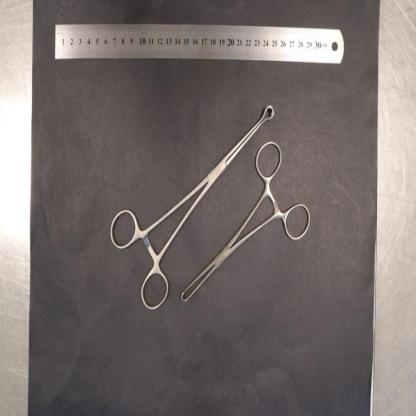8 Babcock Tissue Forceps: (110, 102, 276, 314)
Allis Tissue Forceps: (180, 140, 312, 304)
